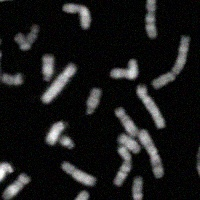chromosome: (151, 35, 189, 88), (43, 62, 75, 105), (139, 129, 166, 179), (138, 85, 165, 127), (61, 162, 96, 185), (114, 145, 132, 186), (2, 174, 29, 200), (114, 107, 137, 137), (63, 4, 89, 30), (15, 24, 39, 49), (110, 58, 137, 79), (86, 88, 104, 116), (119, 133, 141, 154), (46, 121, 65, 145), (145, 0, 156, 38), (130, 175, 143, 200), (2, 71, 22, 86), (42, 54, 53, 81), (0, 161, 13, 183), (65, 190, 90, 200), (196, 134, 200, 193), (60, 136, 75, 149), (0, 48, 2, 79), (0, 0, 53, 1), (0, 32, 2, 46), (0, 0, 22, 1)
